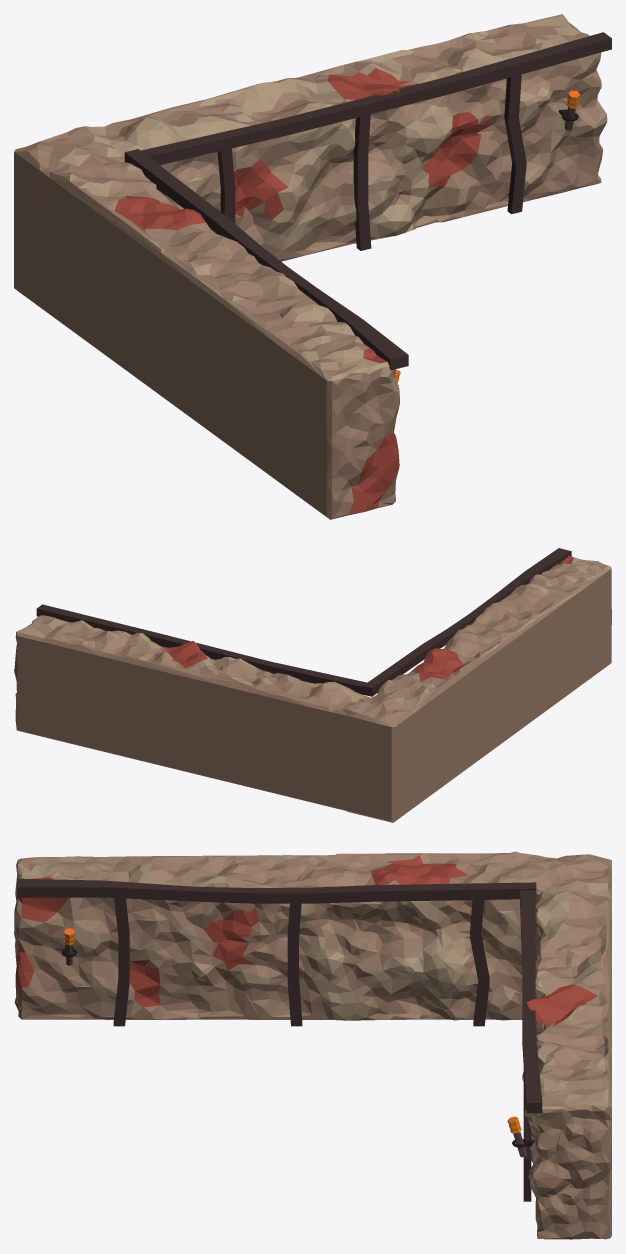
The model's file is Pared 1.fbx.
3 views of the same model, one above another, from view 1: azimuth 30°, elevation 25°; view 2: azimuth 150°, elevation 25°; view 3: azimuth 270°, elevation 25° (orthographic). The views are drawn at different scales.
Parts seen in each view (by area): view 1: Pared 1, Madera; view 2: Pared 1, Madera; view 3: Pared 1, Madera.
Boxes of the visible parts, <box> form: Pared 1: <box>14,14,607,519</box>; Madera: <box>124,32,611,370</box>; Pared 1: <box>14,555,611,822</box>; Madera: <box>36,548,571,696</box>; Pared 1: <box>14,851,611,1239</box>; Madera: <box>17,878,542,1201</box>.
Size of the model in its own units: 810 by 217 by 806.
